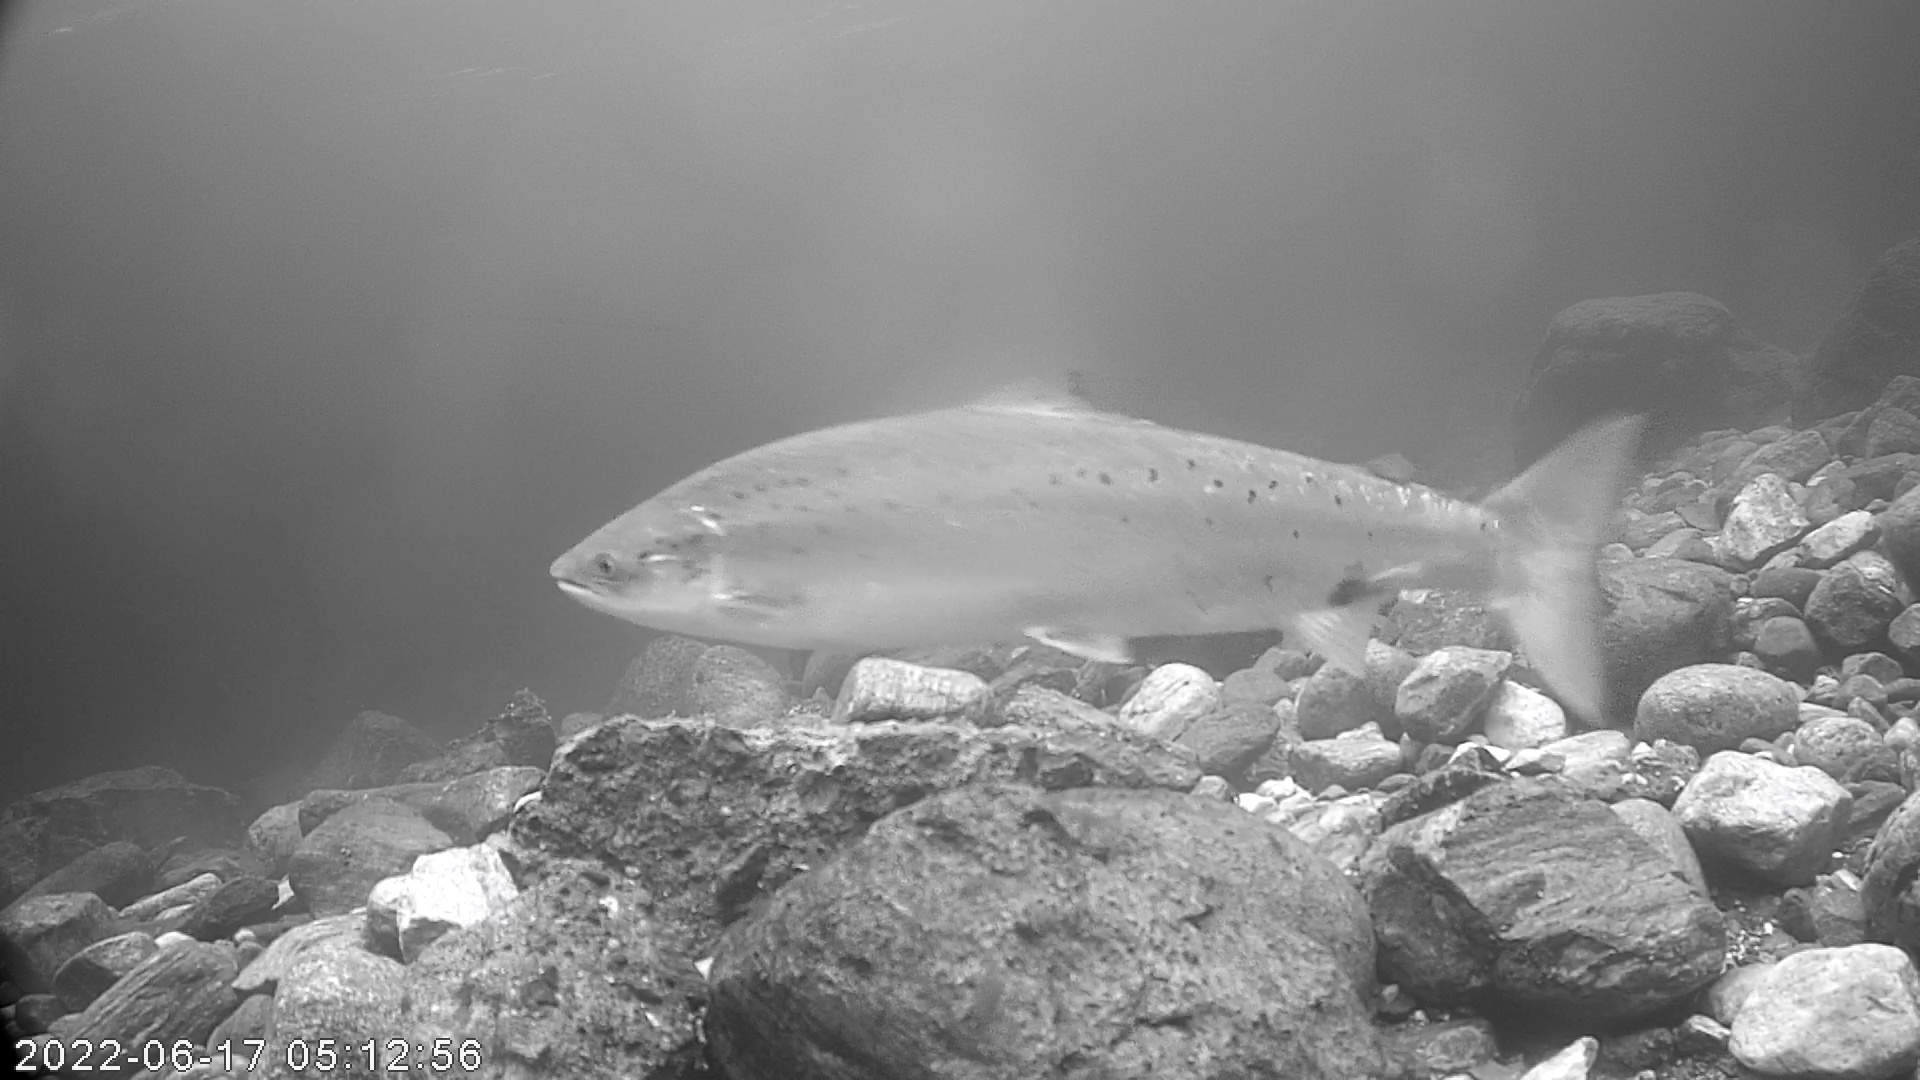salmon: (546, 342, 1644, 724)
